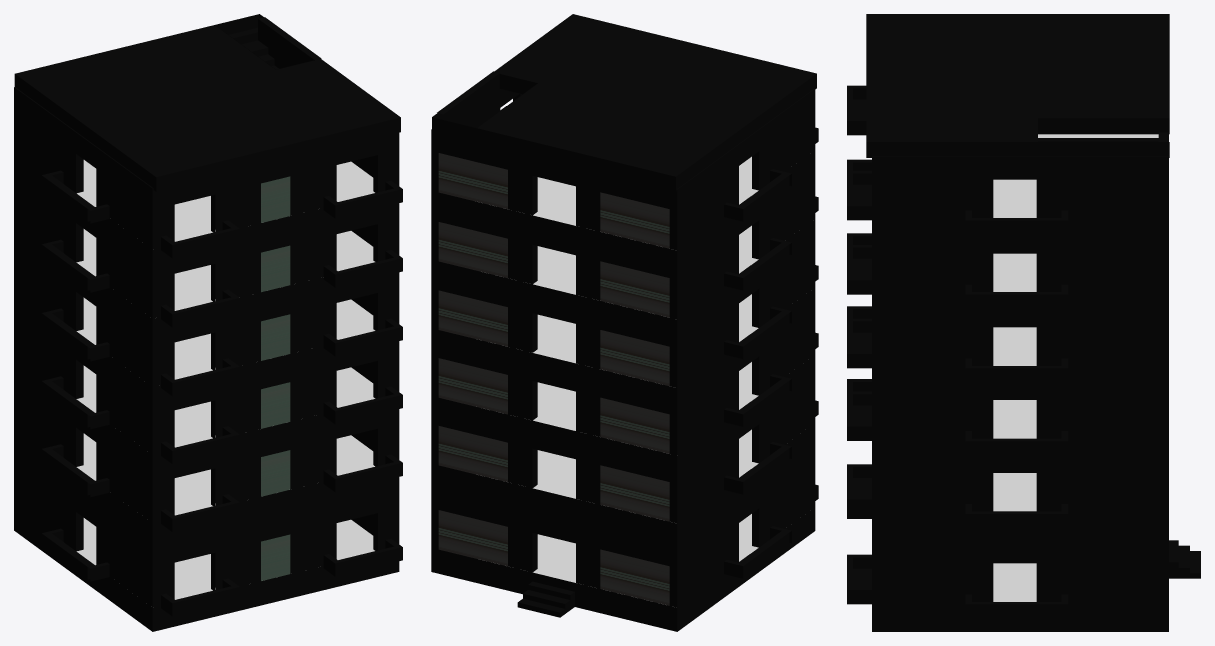
File: building1.fbx
3 views of the same model, side by side, from view 1: azimuth 30°, elevation 25°; view 2: azimuth 150°, elevation 25°; view 3: azimuth 270°, elevation 25° (orthographic). The views are drawn at different scales.
Visible parts, largest first — view 1: Cube; view 2: Cube; view 3: Cube.
Boxes of the visible parts, x1,y1,x2,y2 form: Cube: (14, 14, 402, 631); Cube: (431, 14, 818, 631); Cube: (847, 14, 1200, 631).
Size of the model in its own units: 1729 by 2644 by 1730.
